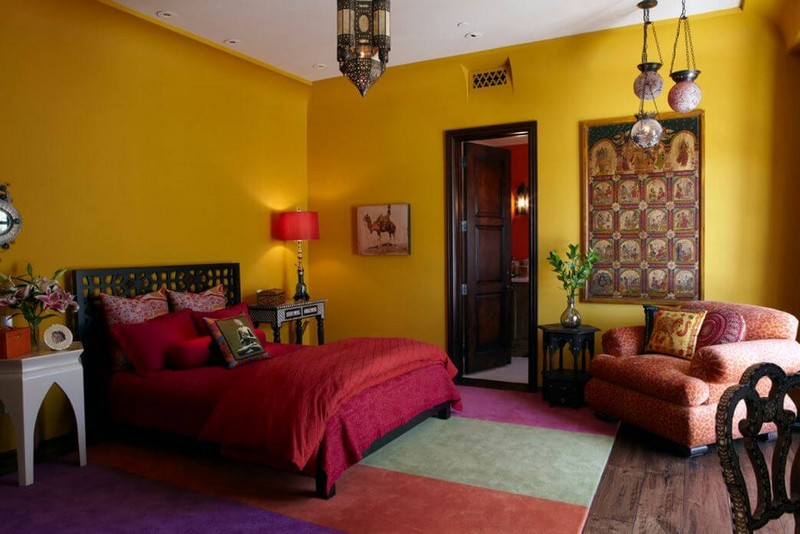bed: (69, 261, 464, 506)
chair: (716, 359, 798, 530)
door: (443, 121, 541, 391)
lamp: (270, 199, 322, 307)
sofa: (596, 296, 800, 465)
stool: (2, 344, 90, 496), (538, 319, 600, 413), (248, 296, 330, 351)
